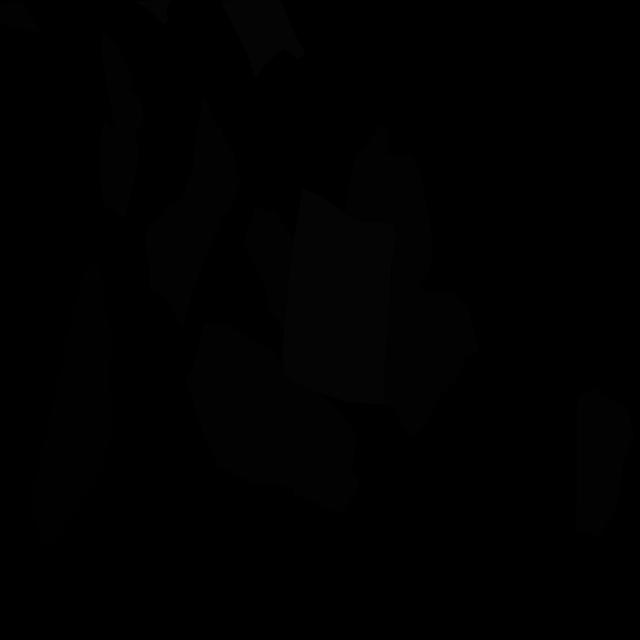cardboard: (185, 322, 360, 515), (145, 98, 242, 327), (384, 263, 480, 437), (345, 125, 432, 284), (575, 388, 635, 536), (99, 33, 144, 218), (243, 207, 294, 329), (0, 0, 42, 34)
rigid_plastic: (32, 260, 112, 549)
soft_plastic: (282, 189, 396, 404), (220, 0, 306, 78), (131, 0, 171, 24)
